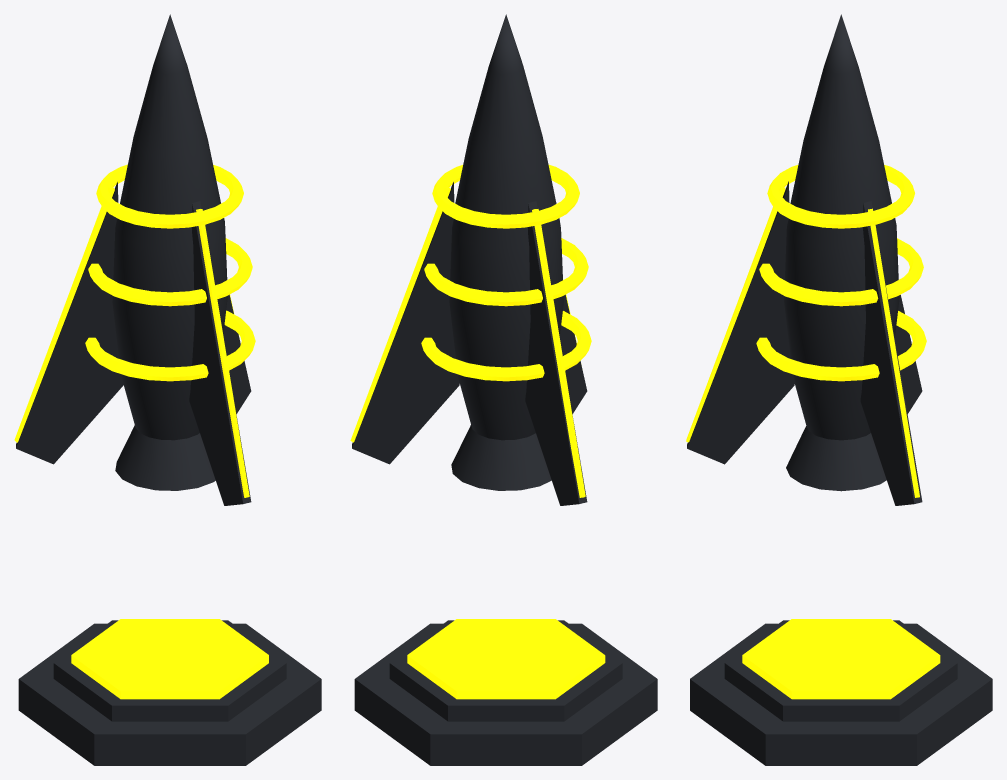
File: pickup_boost.glb
3 renders of one model, left to right at view 1: azimuth 30°, elevation 25°; view 2: azimuth 150°, elevation 25°; view 3: azimuth 270°, elevation 25°, orthographic.
Visible parts, largest first — view 1: Core, Base; view 2: Core, Base; view 3: Core, Base.
Boxes of the visible parts, x1,y1,x2,y2 form: Core: [14, 14, 255, 505]; Base: [18, 619, 321, 765]; Core: [350, 14, 591, 505]; Base: [354, 619, 657, 765]; Core: [686, 14, 926, 505]; Base: [690, 619, 992, 765].
Bounding box in the file's own units: 0.467 × 1.32 × 0.5261.
